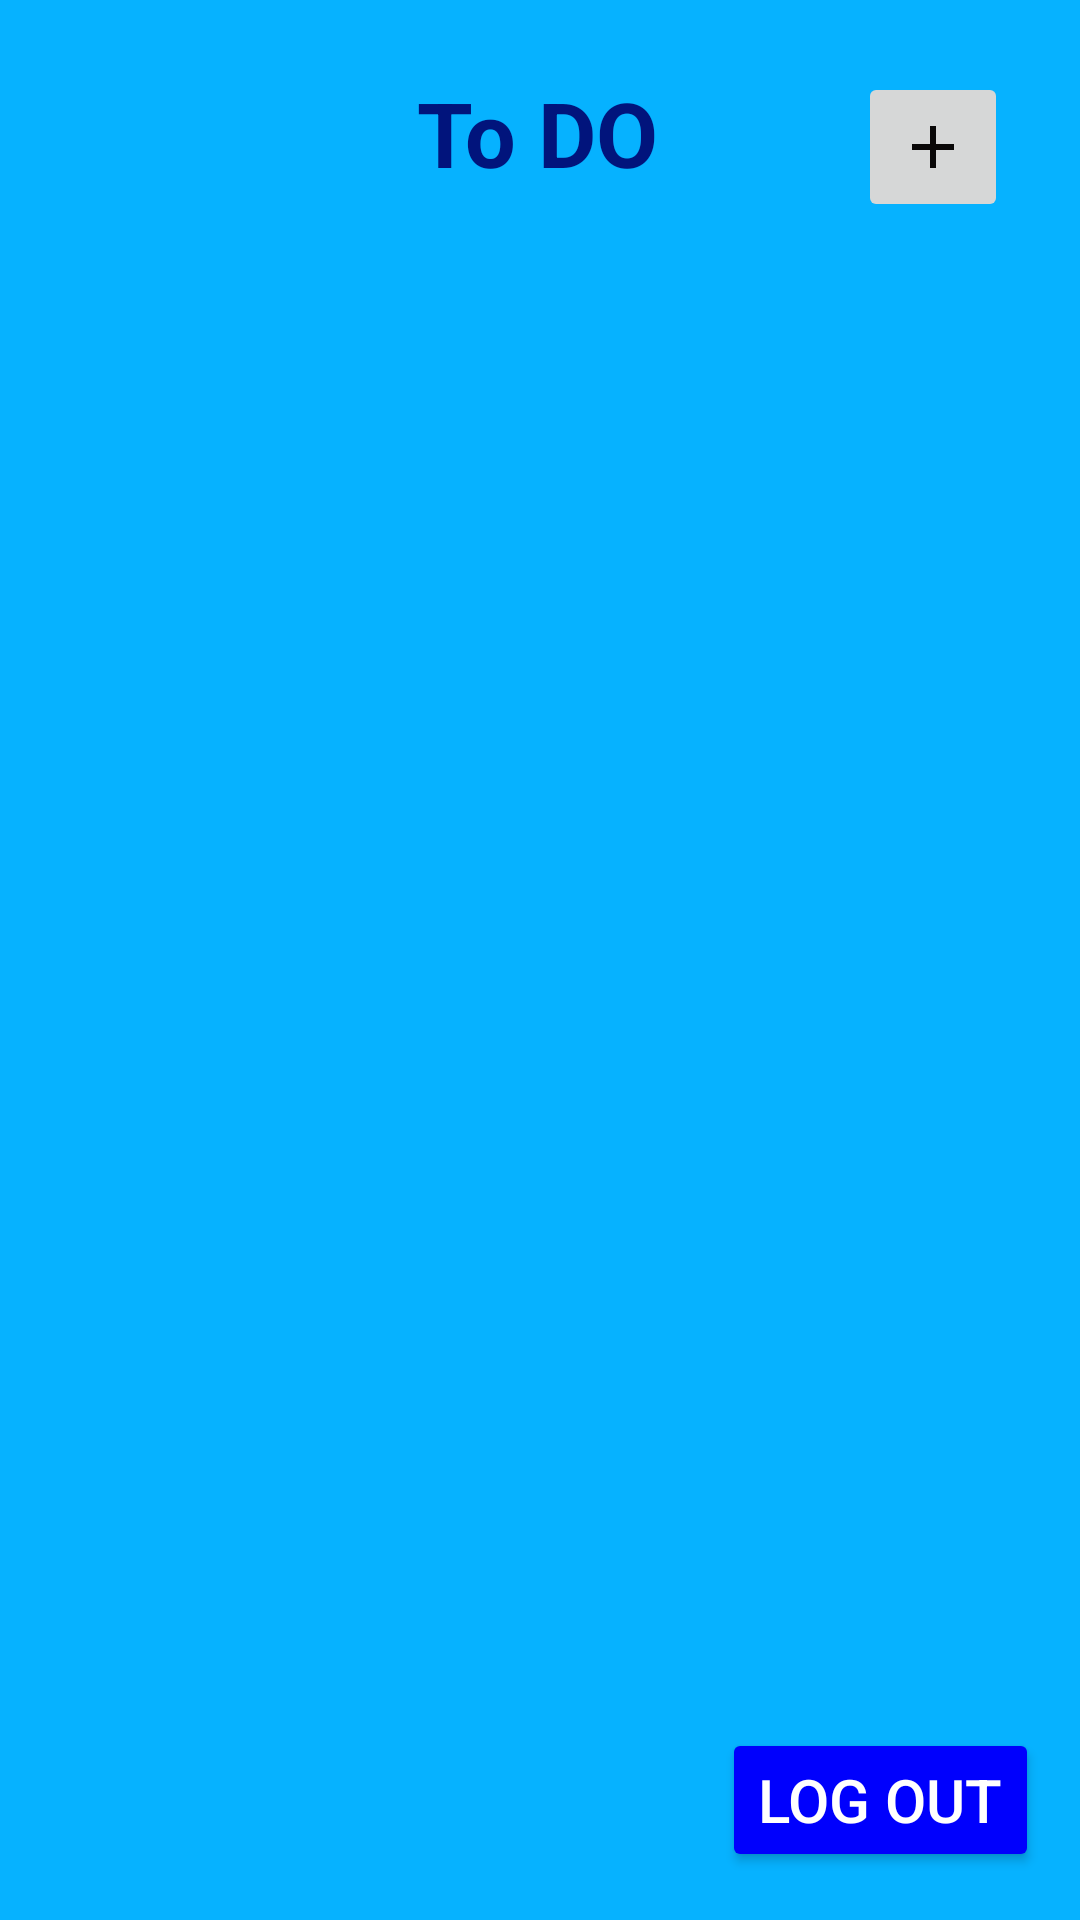

Locate icon controls on the screen. Image size 1080x1920, boxes as (x1, y1, x2, y2).
add: (870, 90, 996, 204)
